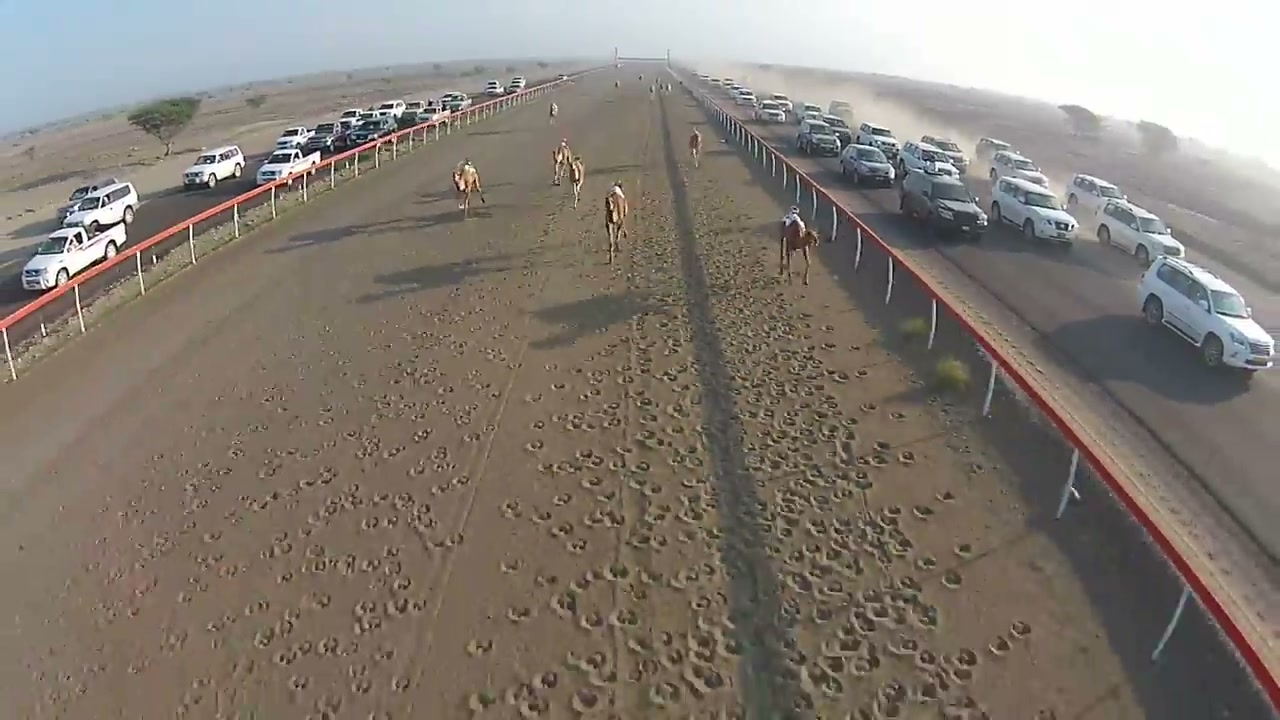animal_foot_print: (33, 99, 1131, 717)
